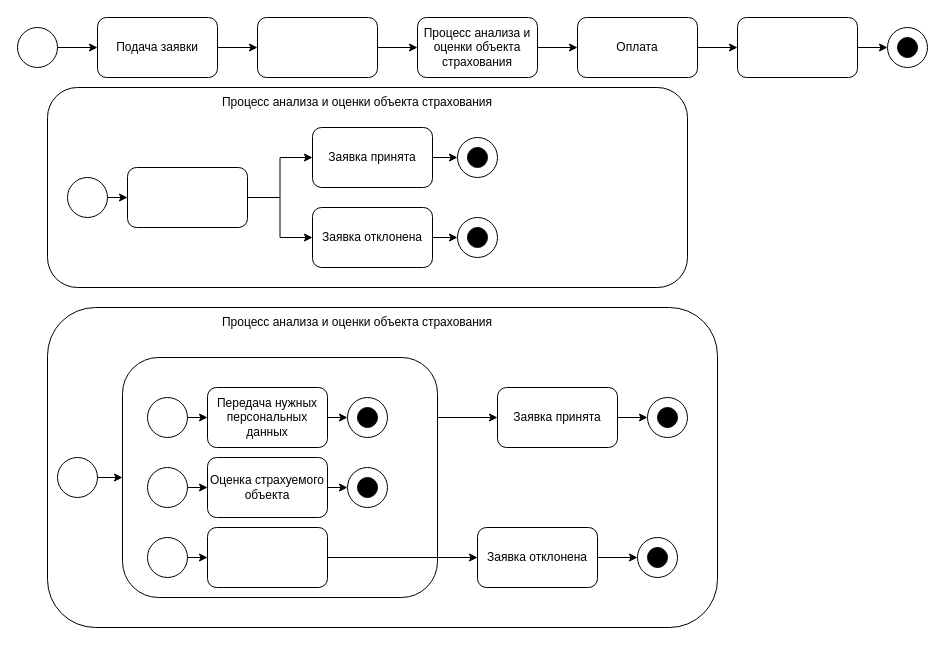
The diagram is 945 pixels wide and 645 high, and some of its shapes have lost their labels. Here are the shapes that lost their labels. From the top down, the centre of each, then its label:
At (x=317, y=47): "Передача документов".
At (x=797, y=47): "Готовый страховочный документ".
At (x=187, y=197): "Не оценен".
At (x=267, y=557): "Есть юридические ограничения".
